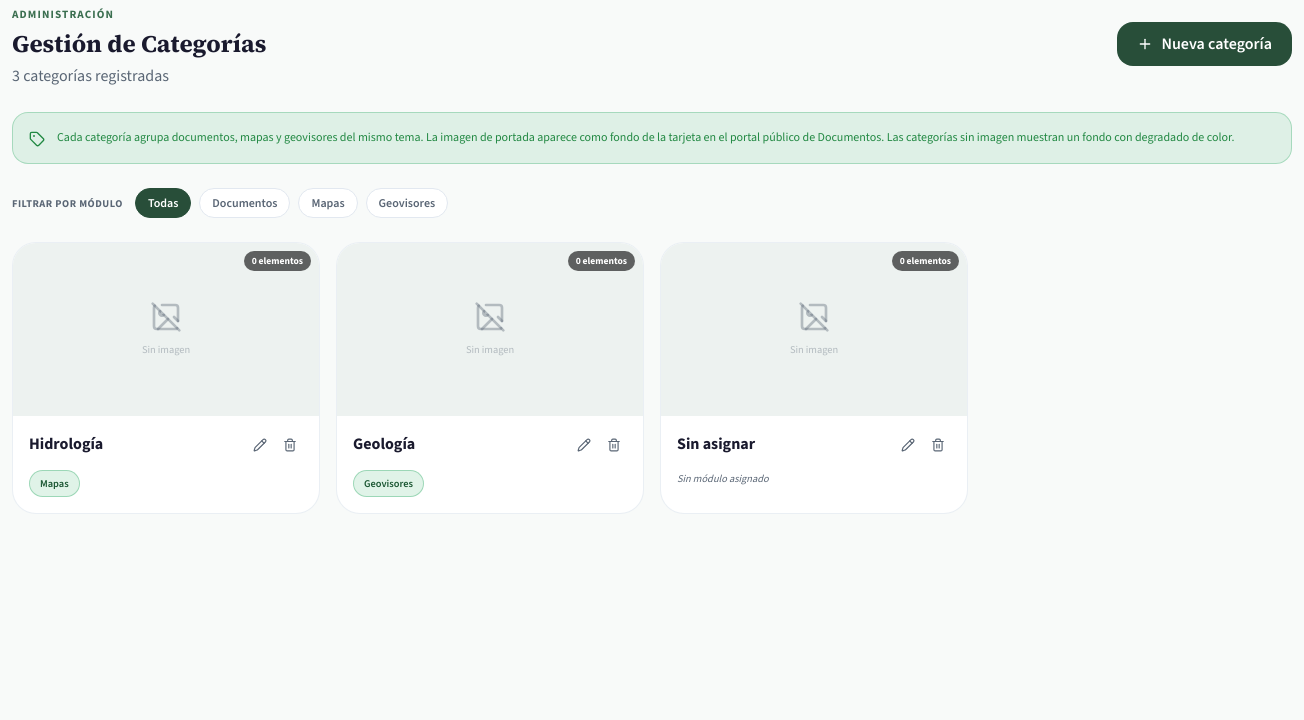
Scenario: GestionCategorias — filtro por módulo › filtrar por Geovisores solo muestra la categoría asignada a geovisores
Click the button "Geovisores" at (407, 203), box [366, 188, 448, 218]
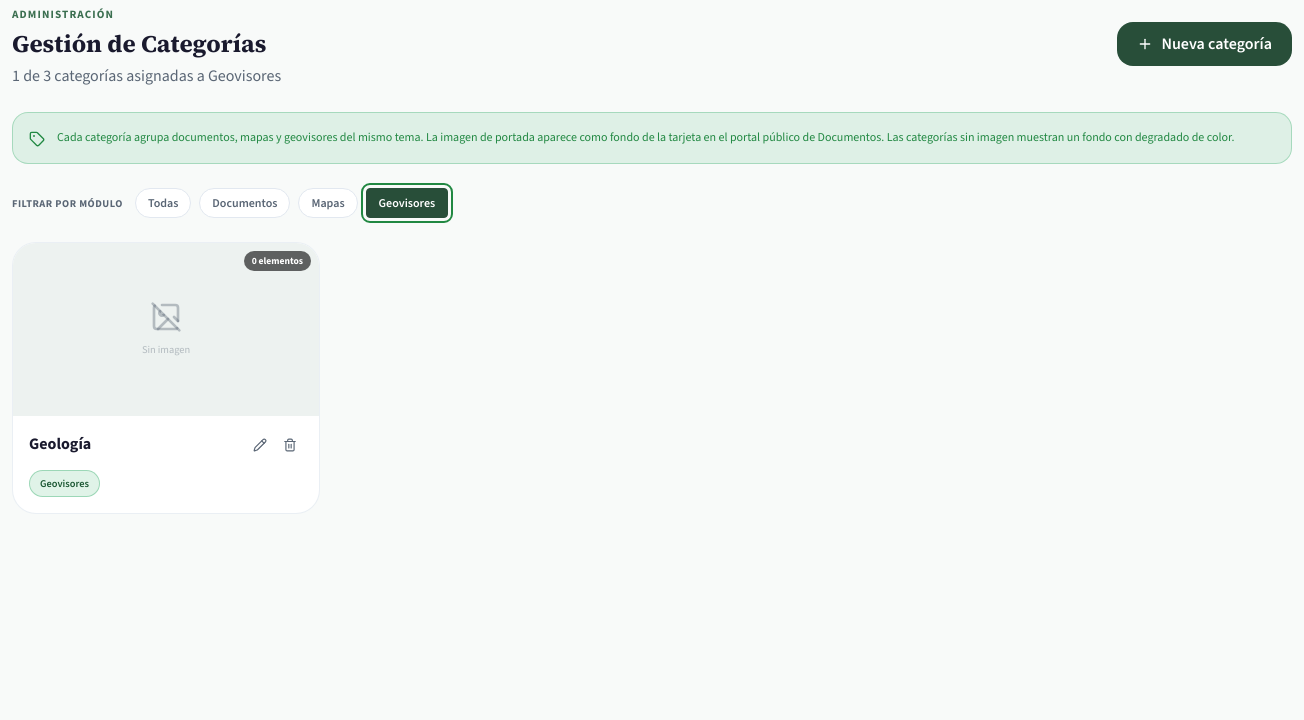
Check: the heading "Geología" is shown, box [29, 432, 91, 456]
Check: the heading "Hidrología" is gone
Check: the heading "Sin asignar" is gone
